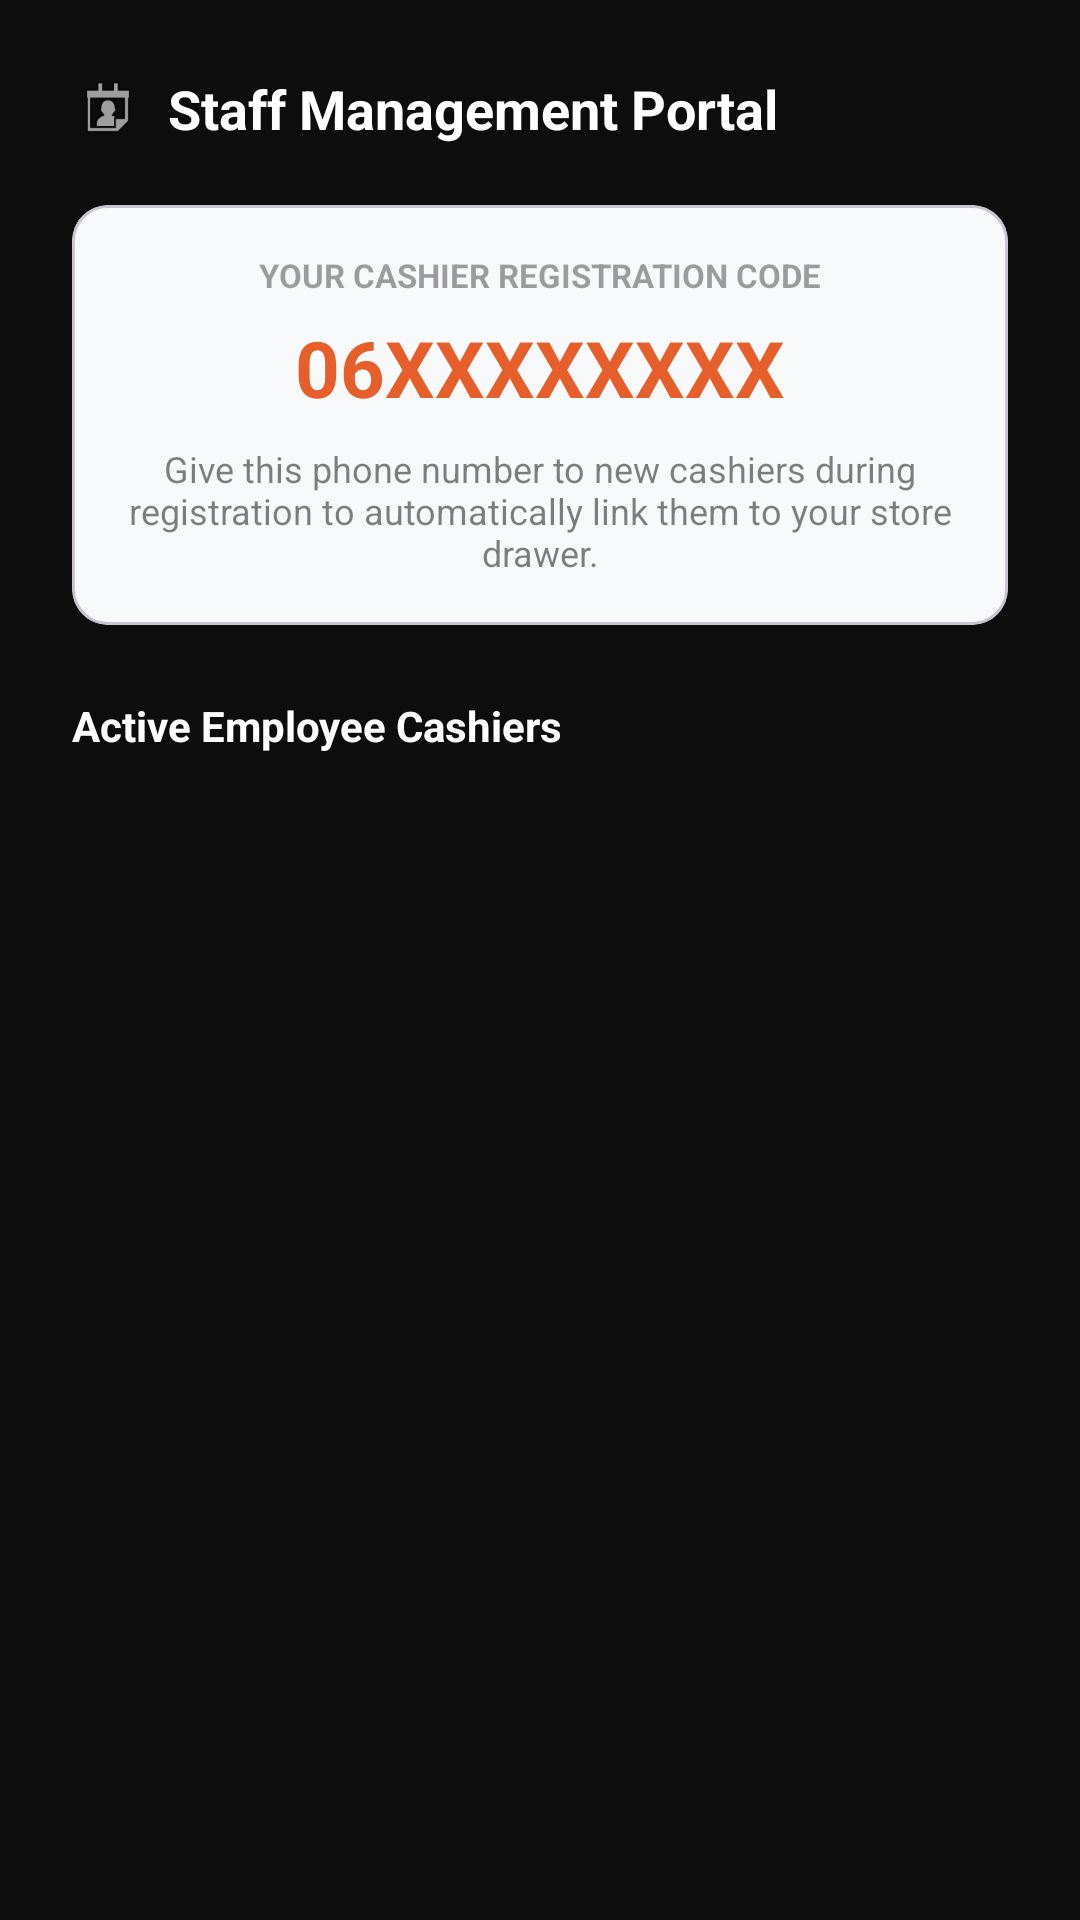

Point at icon controls on the screen. Image size 1080×1920, points as point (x, y).
calendar: point (108, 107)
